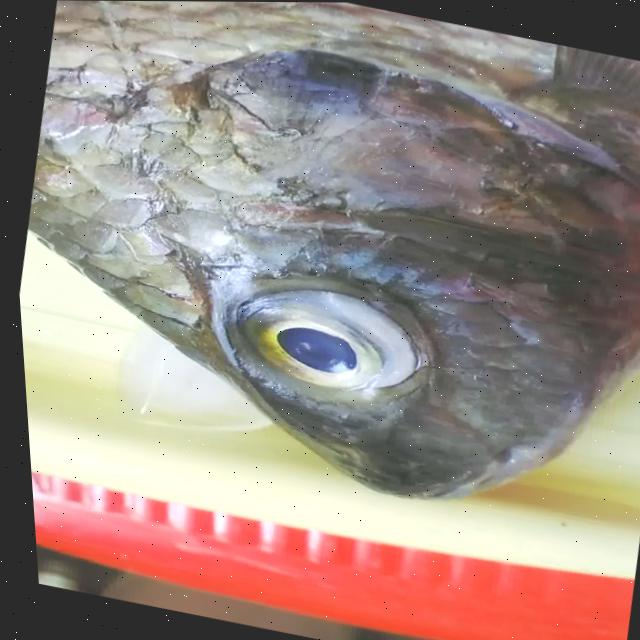Fresh: (191, 265, 406, 407)
